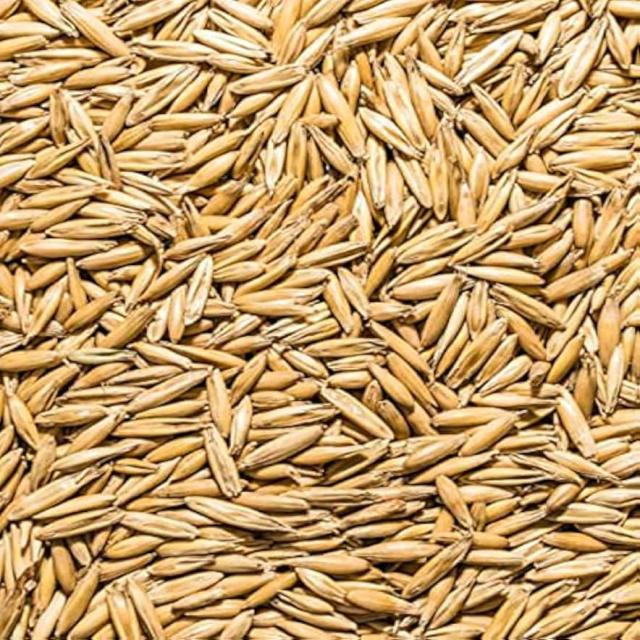avena: (177, 412, 261, 496)
